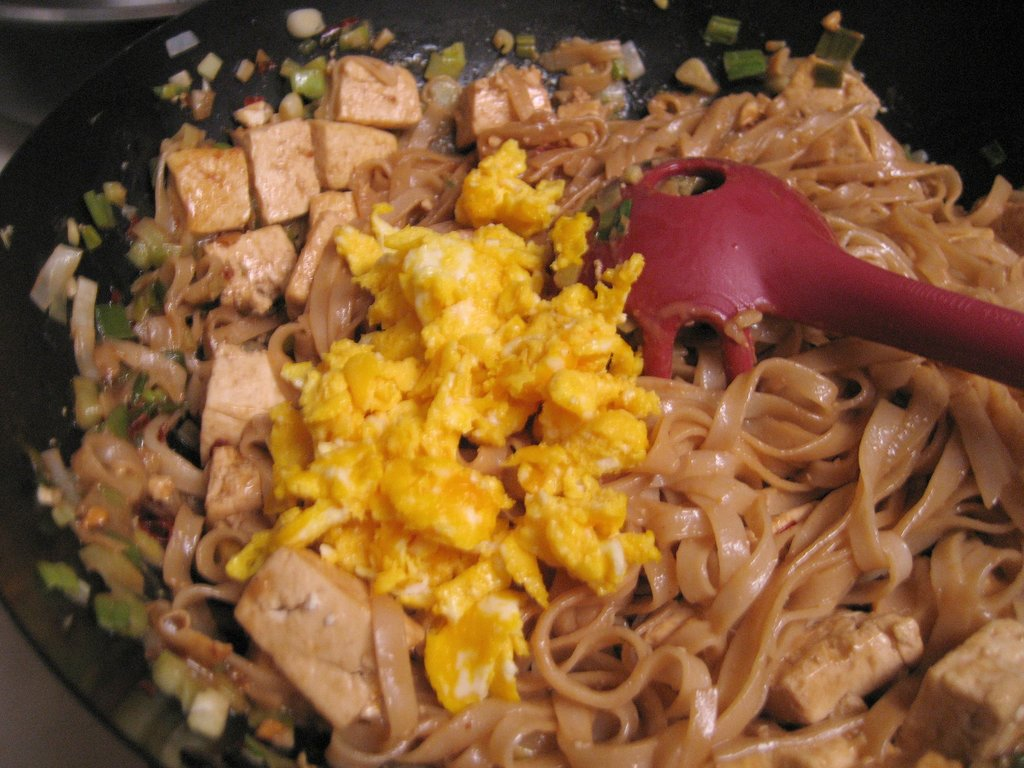pasta: (27, 29, 1023, 767)
